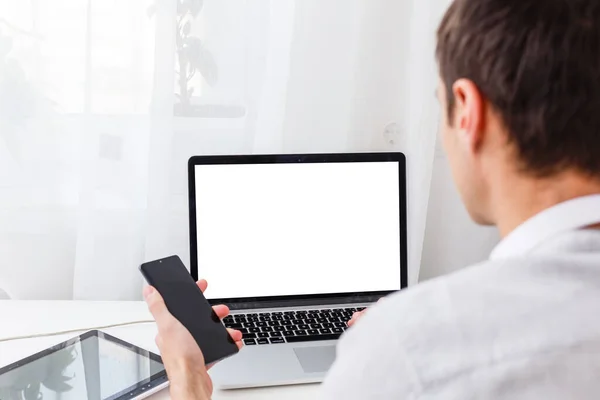laptop: (189, 155, 418, 390)
mobile: (139, 251, 242, 363)
tablet: (0, 326, 170, 400)
